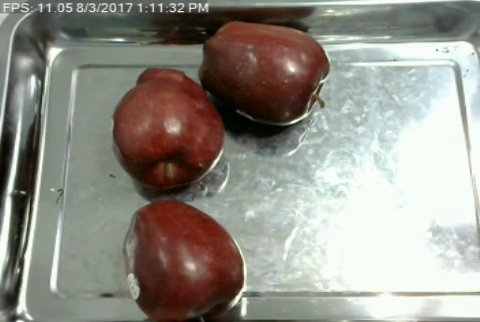Apple: (190, 17, 334, 130), (118, 198, 249, 322), (108, 64, 230, 194)
